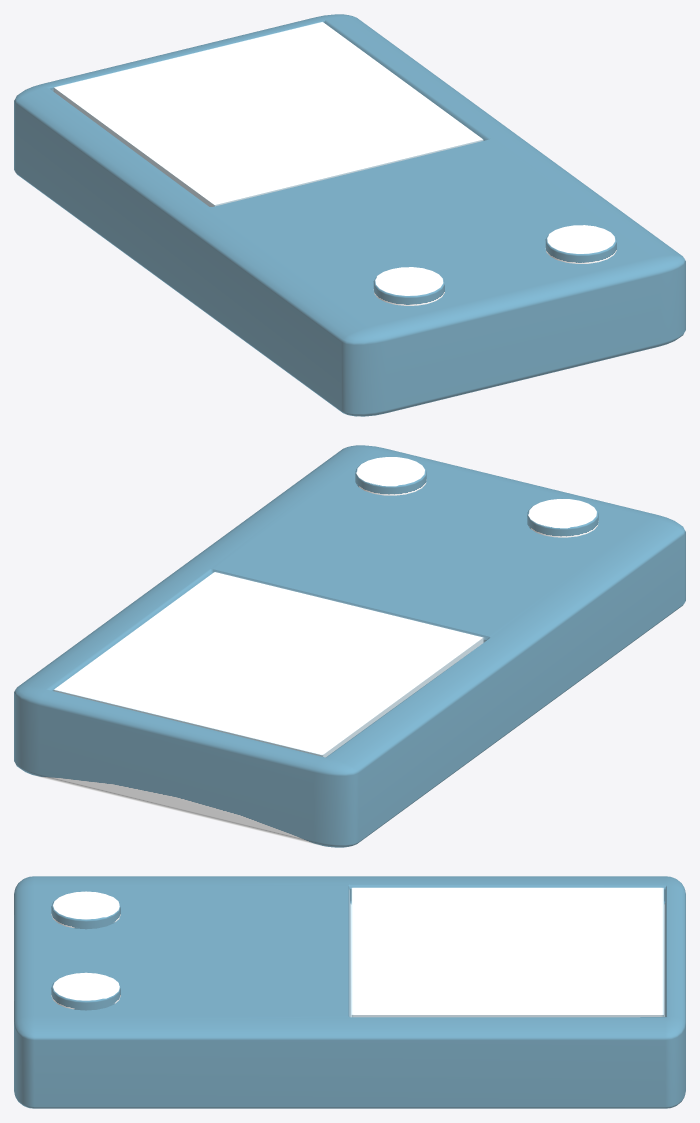
File: GadgetPainted.gltf
The picture shows the model from 3 angles, top to bottom: view 1: azimuth 30°, elevation 25°; view 2: azimuth 150°, elevation 25°; view 3: azimuth 270°, elevation 25°; orthographic projection. The views are drawn at different scales.
Parts seen in each view (by area): view 1: polySurface2; view 2: polySurface2; view 3: polySurface2.
Boxes of the visible parts, left/top/right/bottom form: polySurface2: left=14, top=14, right=685, bottom=416; polySurface2: left=14, top=445, right=685, bottom=847; polySurface2: left=14, top=876, right=685, bottom=1108.
Bounding box in the file's own units: 1 × 0.2653 × 1.75.
1 material, 1 textured.
